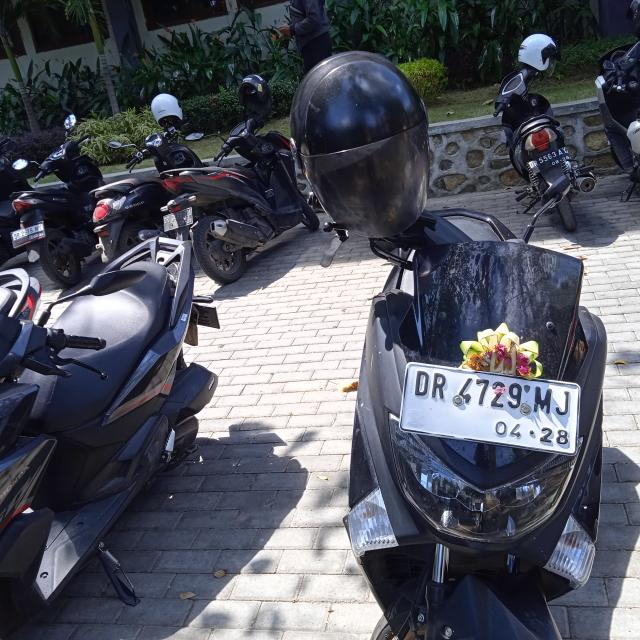plate: (399, 359, 581, 456), (527, 146, 572, 176)
